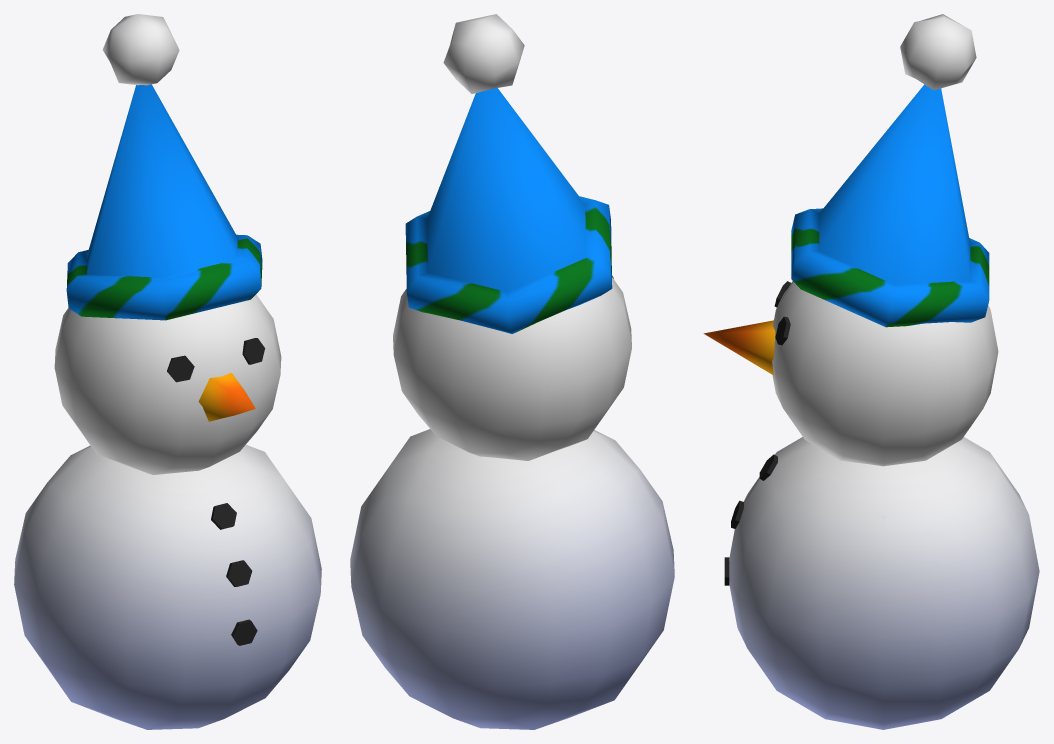
File: ykidaruma_04.fbx
3 renders of one model, left to right at view 1: azimuth 30°, elevation 25°; view 2: azimuth 150°, elevation 25°; view 3: azimuth 270°, elevation 25°, orthographic. The views are drawn at different scales.
Parts seen in each view (by area): view 1: pCube10, pCube11, pCylinder19, pCube12, pSphere1, pCylinder21, pCylinder22, pCylinder23, pCylinder24; view 2: pCube10, pCylinder19, pCube11, pCube12; view 3: pCube10, pCylinder19, pCube11, pCube12, pSphere1.
Part boxes in pixels (x1,y1,x2,y2): pCube10: [14, 444, 321, 729]; pCube11: [54, 294, 281, 474]; pCylinder19: [66, 84, 262, 320]; pCube12: [102, 14, 179, 85]; pSphere1: [198, 372, 255, 421]; pCylinder21: [167, 355, 194, 382]; pCylinder22: [226, 560, 252, 586]; pCylinder23: [211, 503, 236, 529]; pCylinder24: [231, 619, 257, 645]; pCube10: [350, 429, 674, 729]; pCylinder19: [405, 88, 612, 333]; pCube11: [393, 277, 631, 460]; pCube12: [443, 14, 524, 93]; pCube10: [729, 437, 1039, 729]; pCylinder19: [791, 84, 989, 327]; pCube11: [772, 281, 998, 466]; pCube12: [900, 14, 976, 90]; pSphere1: [703, 320, 775, 375].
Size of the model in its own units: 0.9338 by 2.29 by 1.
